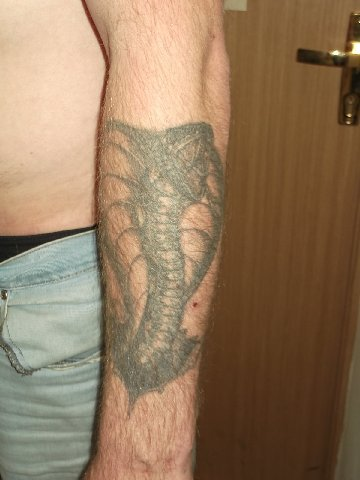tatu7_zmeya: (90, 101, 227, 390)
